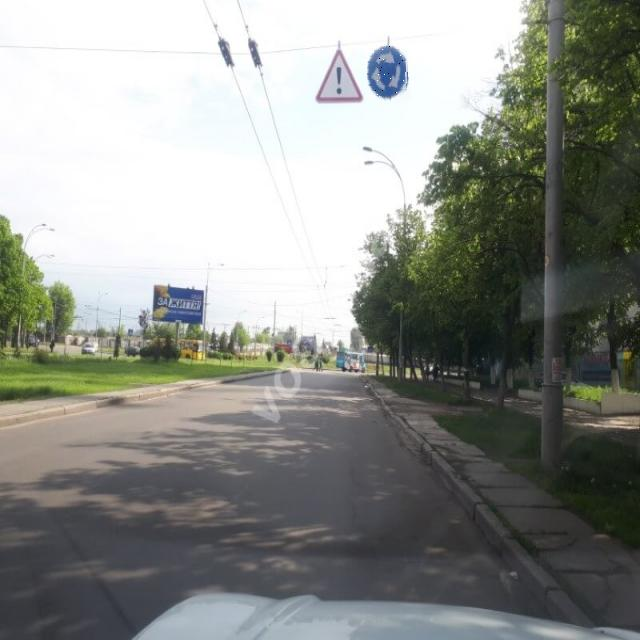roundabout: (367, 44, 410, 107)
